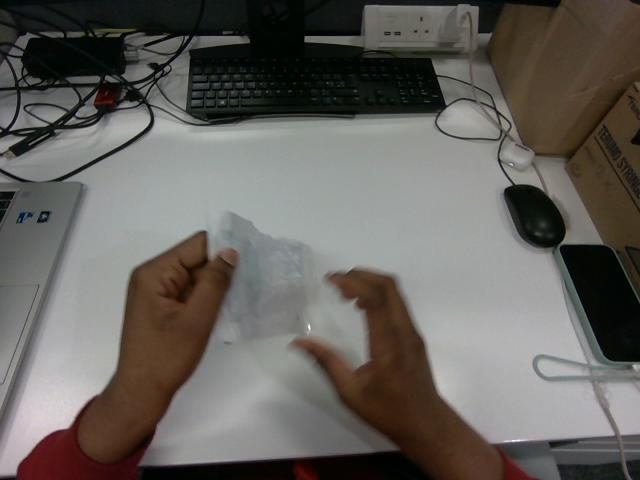gallipot: (208, 212, 316, 342)
